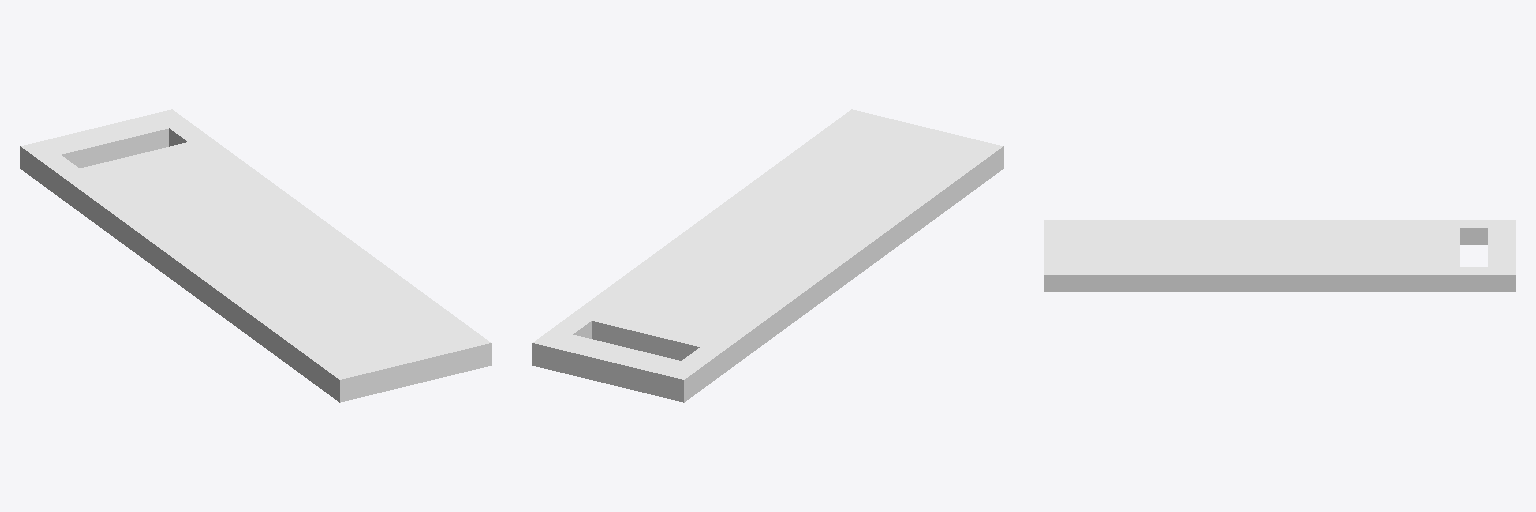
The robot description file, URDF, robot "HangingDummy":
<?xml version="1.0"?>
<robot name="HangingDummy">
  <material name="Blanc">
    <color rgba="1.0 1.0 1.0 1.0"/>
  </material>
  <link name="base_link">
    <visual>
      <origin xyz="0 0 0" rpy="0 0 0"/>
      <geometry>
        <mesh filename="dummy_test.obj" scale="1 1.5 1"/>
      </geometry>
      <material name="Blanc"/>
    </visual>
    <collision>
      <origin xyz="0 0 0" rpy="0 0 0"/>
      <geometry>
	 	     <mesh filename="dummy_test.obj" scale="1 1.5 1"/>
      </geometry>
    </collision>
    <contact>
      <lateral_friction value="3.0"/>
      <rolling_friction value="0.0001"/>
      <inertia_scaling value="3.0"/>
    </contact>
    <inertial>
      <origin rpy="0 0 0" xyz="0 0 0"/>
       <mass value="0.05"/>
       <inertia ixx="1" ixy="0" ixz="0" iyy="1" iyz="0" izz="1"/>
    </inertial>
  </link>

</robot>

--- What the picture shows (computed from the rendered views, not written in the file) ---
The picture shows the robot from 3 angles, left to right: view 1: azimuth 30°, elevation 25°; view 2: azimuth 150°, elevation 25°; view 3: azimuth 270°, elevation 25°; orthographic projection.
Robot: HangingDummy — 1 links, 0 joints (none); root link base_link; default pose: every joint at zero.
Visible links, largest first — view 1: base_link; view 2: base_link; view 3: base_link.
Boxes of the visible links, bbox=[...] form: base_link: bbox=[20, 109, 491, 402]; base_link: bbox=[532, 109, 1003, 402]; base_link: bbox=[1044, 220, 1515, 291].
Bounding box of the posed robot: 0.07 × 0.255 × 0.01 m (x, y, z).
1 mesh visuals loaded from 1 distinct referenced files (1 OBJ).
